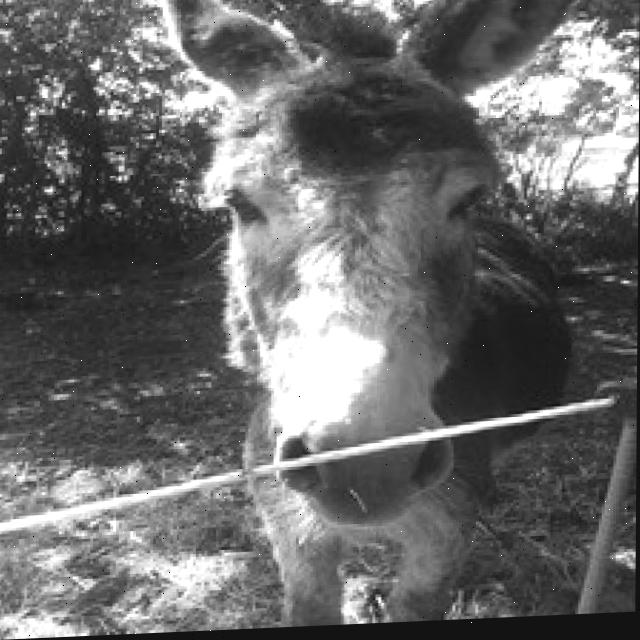Donkey: (153, 0, 609, 630)
